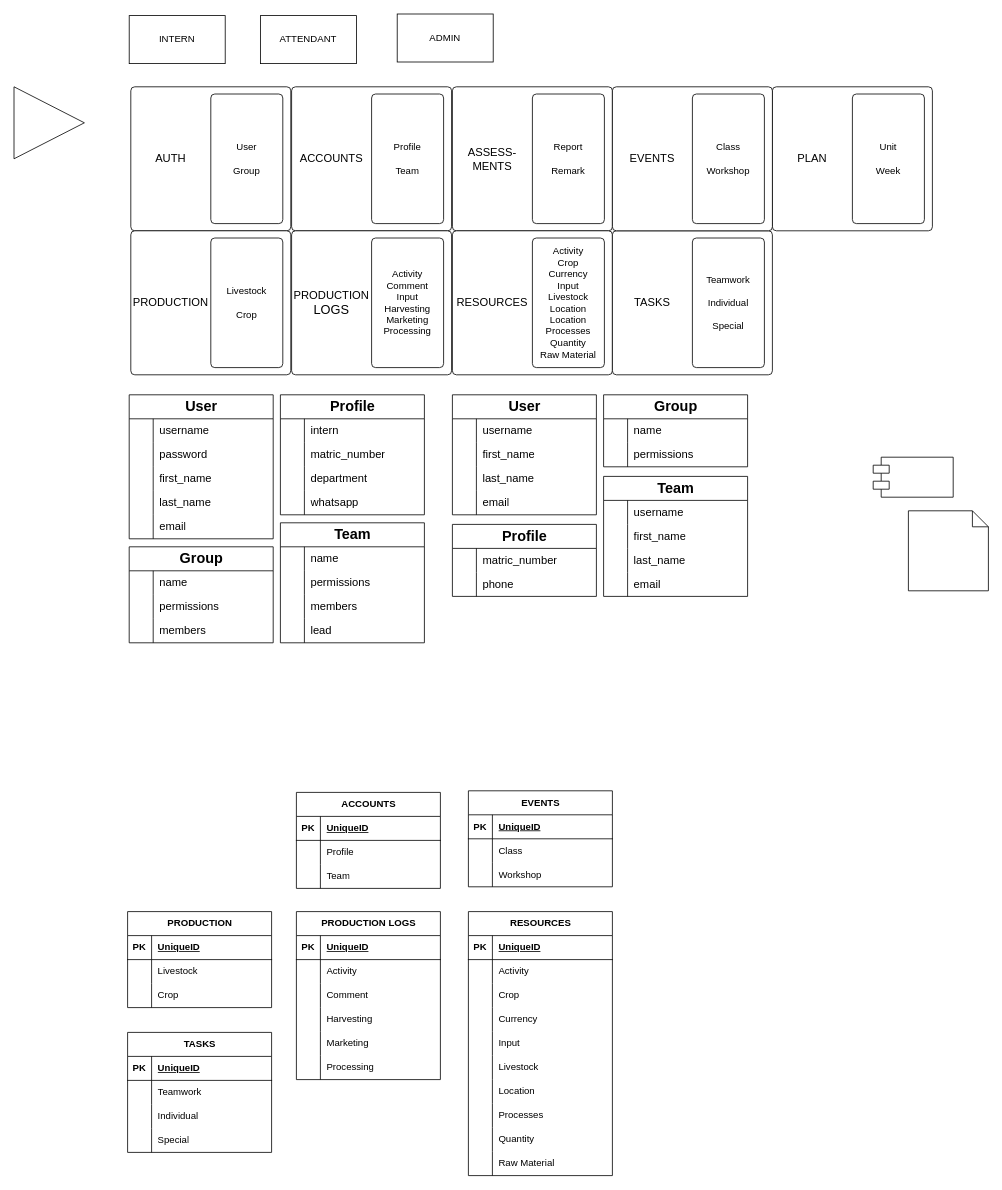
This 1002x1190 diagram has some shape labels left out. Here are the shapes that lost their labels. From the top down, the centre of each, then its label:
At (48,122): "apps models".
At (912,476): "Module".
At (948,550): "Note".
